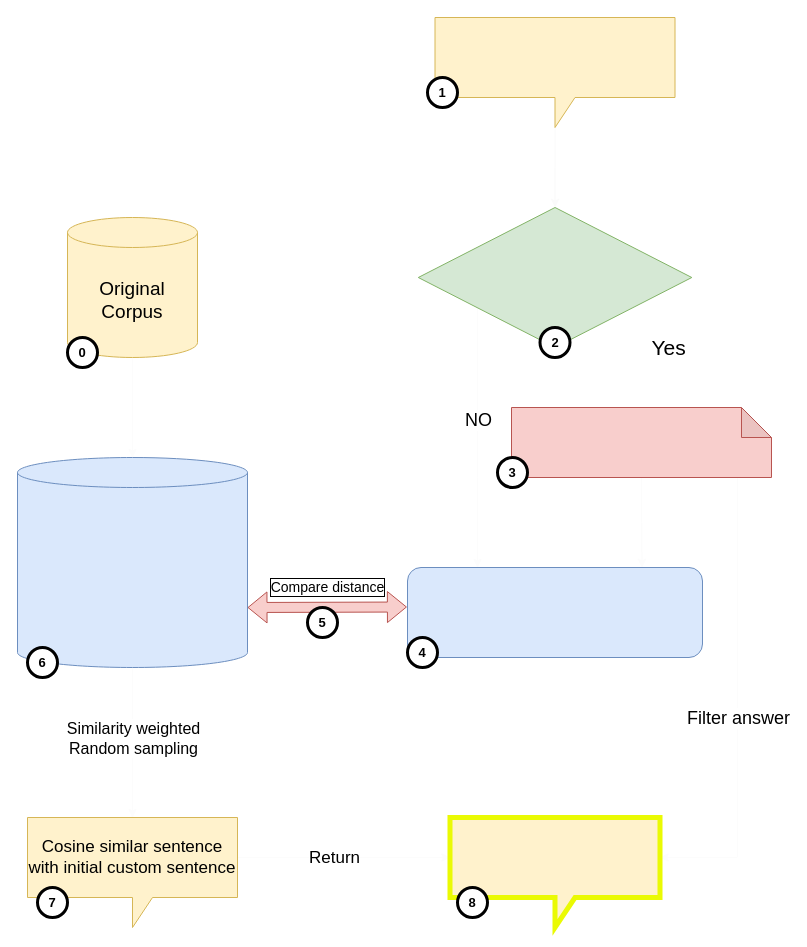
The diagram is 807 pixels wide and 947 high, and some of its shapes have lost their labels. The box of each missing label's shape, as (x1, y1, x2, y2) in pixels:
Answer = Reply just after the cosine similar sentence: (447, 814, 662, 930)
Contain Character name ?: (417, 206, 692, 348)
Custom sentence: (434, 16, 675, 128)
Pre-processing NLP + TF-IDF vectorization: (406, 566, 702, 658)
Reply must be character mentioned: (510, 406, 772, 478)
TF-IDF Matrix (All sentence in corpus): (16, 456, 248, 668)
